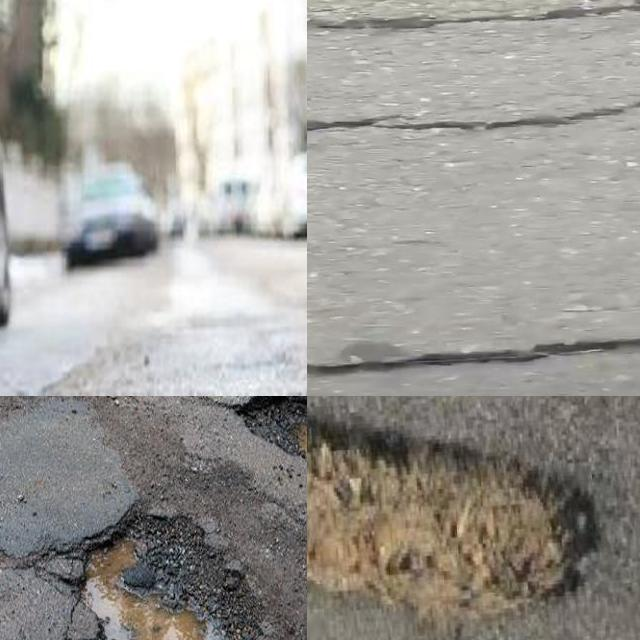Lubang: (307, 410, 580, 626), (57, 507, 262, 640), (247, 396, 307, 467)
Melintang: (307, 88, 640, 152), (307, 321, 640, 385)
